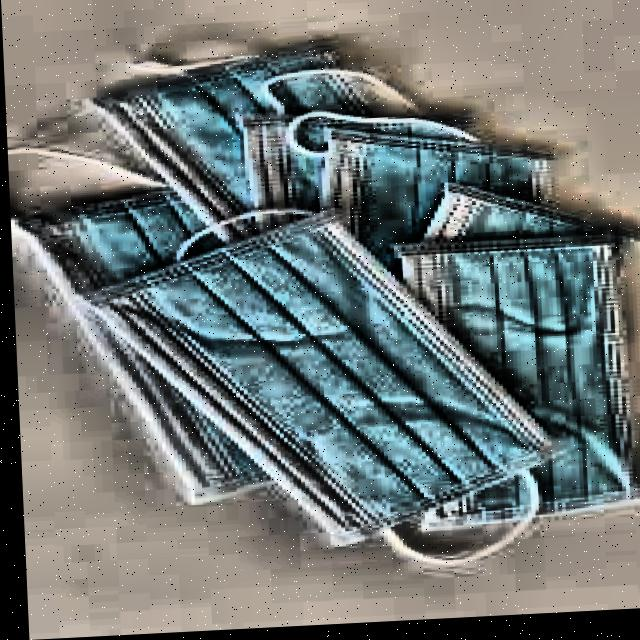trash: (93, 207, 555, 539), (400, 235, 639, 533), (85, 42, 360, 247), (313, 116, 555, 268), (414, 173, 623, 252)
